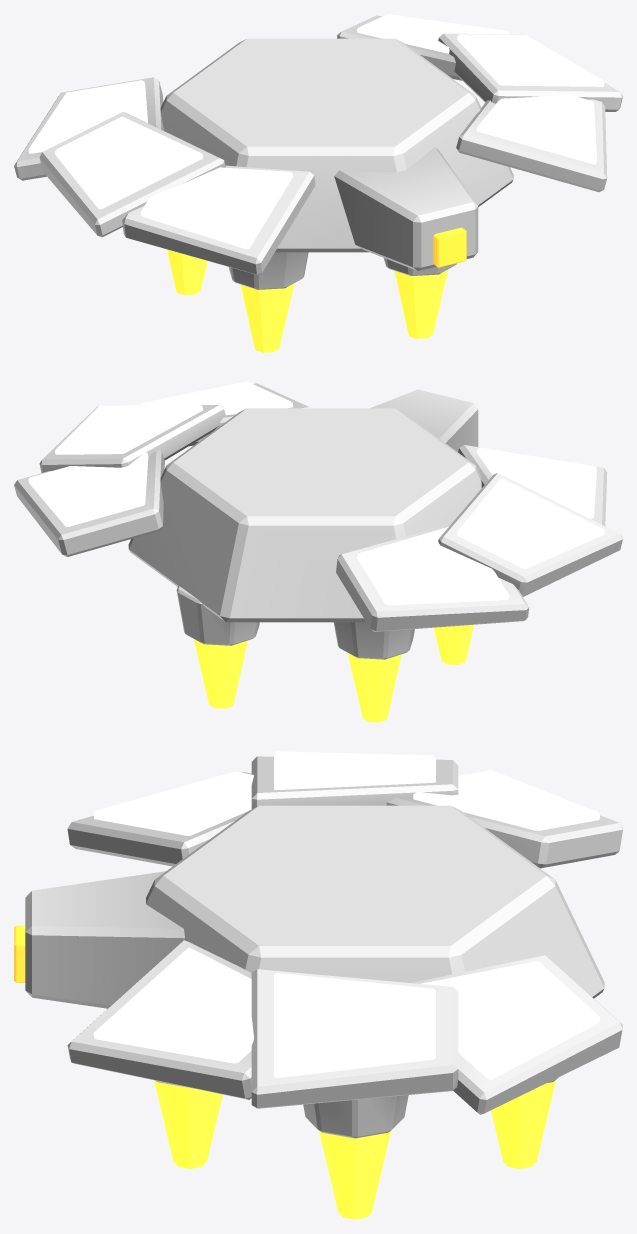
Rendered from e4_scarab_drone.glb.
3 views of the same model, one above another, from view 1: azimuth 30°, elevation 25°; view 2: azimuth 150°, elevation 25°; view 3: azimuth 270°, elevation 25° (orthographic). The views are drawn at different scales.
Visible parts, largest first — view 1: CoreDisc, ScarabNose, PetalGlass_L_0, PetalGlass_L_1, PetalFrame_L_0, PetalGlass_R_0, PetalFrame_R_0, PetalGlass_R_1, PetalFrame_L_1, PetalGlass_L_2, PetalFrame_R_1, PetalGlass_R_2 (+8 smaller); view 2: CoreDisc, PetalGlass_L_2, PetalGlass_L_1, PetalFrame_L_2, PetalGlass_R_2, PetalFrame_R_2, PetalFrame_L_1, PetalGlass_R_1, PetalGlass_L_0, PetalFrame_R_1, ScarabNose, Core_Pulse_Jet_1 (+6 smaller); view 3: CoreDisc, ScarabNose, PetalGlass_R_1, PetalGlass_R_0, PetalGlass_R_2, PetalFrame_R_1, PetalFrame_R_0, PetalFrame_R_2, PetalGlass_L_0, PetalGlass_L_2, PetalGlass_L_1, PetalFrame_L_2 (+7 smaller).
Part boxes in pixels (x1,y1,x2,y2): CoreDisc: (160, 38, 513, 252); ScarabNose: (334, 147, 478, 270); PetalGlass_L_0: (140, 167, 293, 249); PetalGlass_L_1: (55, 116, 203, 209); PetalFrame_L_0: (122, 165, 315, 275); PetalGlass_R_0: (476, 94, 596, 164); PetalFrame_R_0: (456, 99, 607, 192); PetalGlass_R_1: (457, 34, 604, 86); PetalFrame_L_1: (39, 112, 225, 237); PetalGlass_L_2: (28, 80, 147, 153); PetalFrame_R_1: (438, 33, 622, 111); PetalGlass_R_2: (357, 14, 509, 53); CoreDisc: (128, 408, 481, 622); PetalGlass_L_2: (357, 527, 509, 605); PetalGlass_L_1: (457, 478, 604, 568); PetalFrame_L_2: (336, 523, 529, 631); PetalGlass_R_2: (28, 452, 148, 526); PetalFrame_R_2: (14, 450, 164, 556); PetalFrame_L_1: (438, 473, 622, 596); PetalGlass_R_1: (55, 404, 203, 454); PetalGlass_L_0: (476, 447, 596, 518); PetalFrame_R_1: (39, 405, 225, 472); ScarabNose: (370, 389, 478, 451); Core_Pulse_Jet_1: (194, 639, 247, 708); CoreDisc: (146, 805, 604, 998); ScarabNose: (25, 871, 184, 1008); PetalGlass_R_1: (274, 973, 435, 1078); PetalGlass_R_0: (93, 947, 254, 1063); PetalGlass_R_2: (420, 961, 599, 1079); PetalFrame_R_1: (251, 969, 458, 1108); PetalFrame_R_0: (67, 940, 251, 1099); PetalFrame_R_2: (411, 955, 622, 1114); PetalGlass_L_0: (93, 771, 253, 835); PetalGlass_L_2: (413, 770, 599, 830); PetalGlass_L_1: (274, 751, 435, 790); PetalFrame_L_2: (386, 771, 622, 868).
Size of the model in its own units: 2.49 by 0.915 by 1.92.
